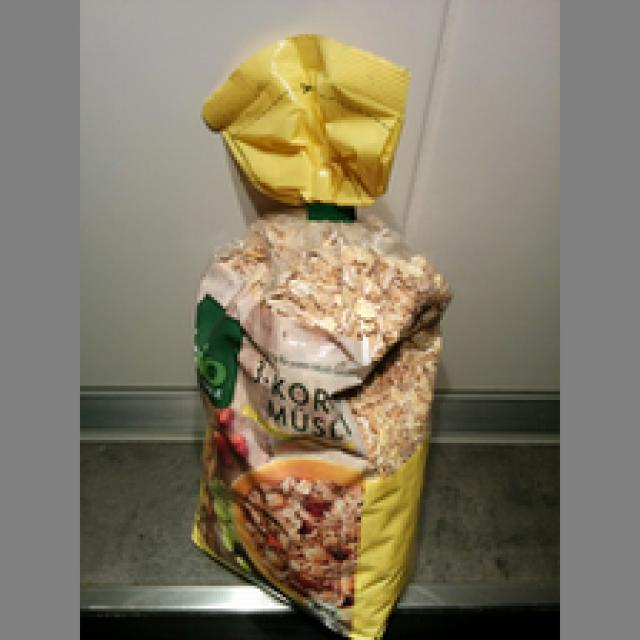groceries: (188, 200, 452, 637)
